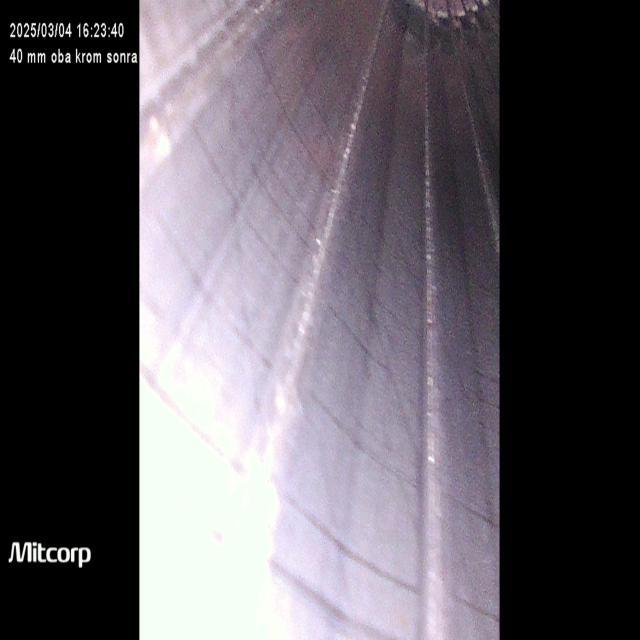hata_8.1: (305, 365, 501, 633), (150, 54, 341, 314)
